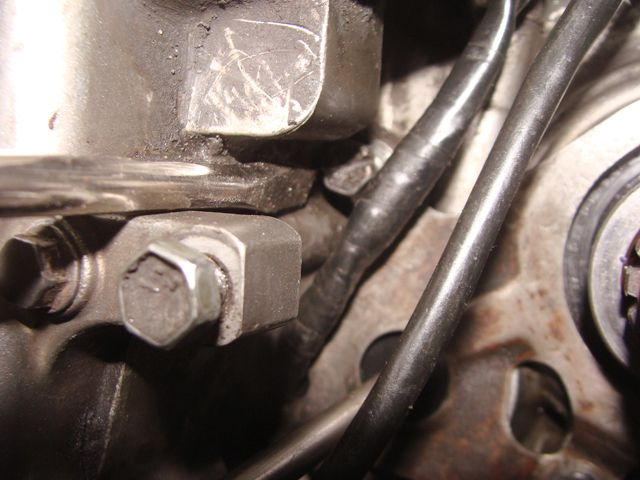bolt_a: (115, 234, 224, 355)
